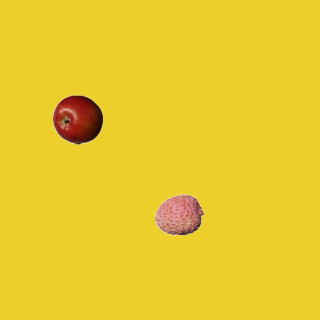Apple Braeburn: (52, 94, 102, 144)
Lychee: (154, 189, 204, 239)
